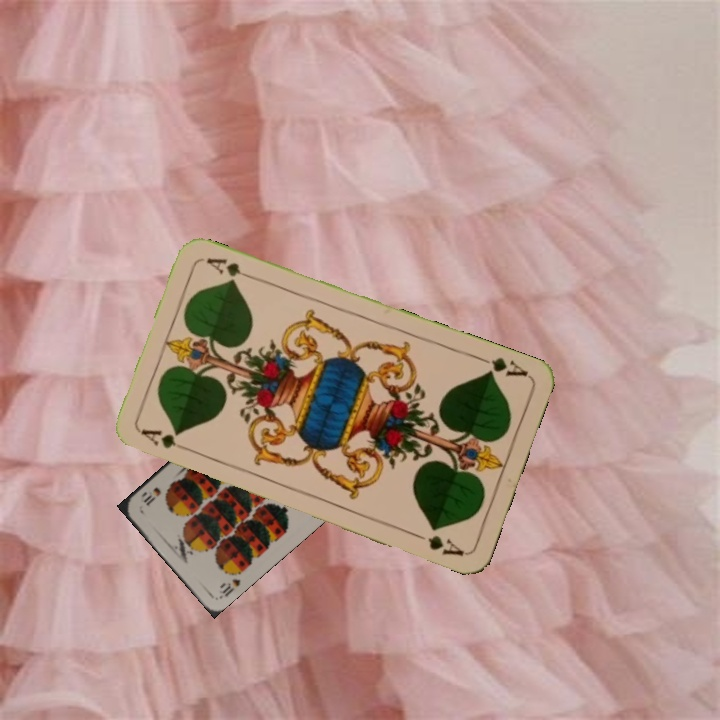GA: (137, 425, 194, 454), (473, 352, 531, 380)
S10: (215, 575, 243, 601)
